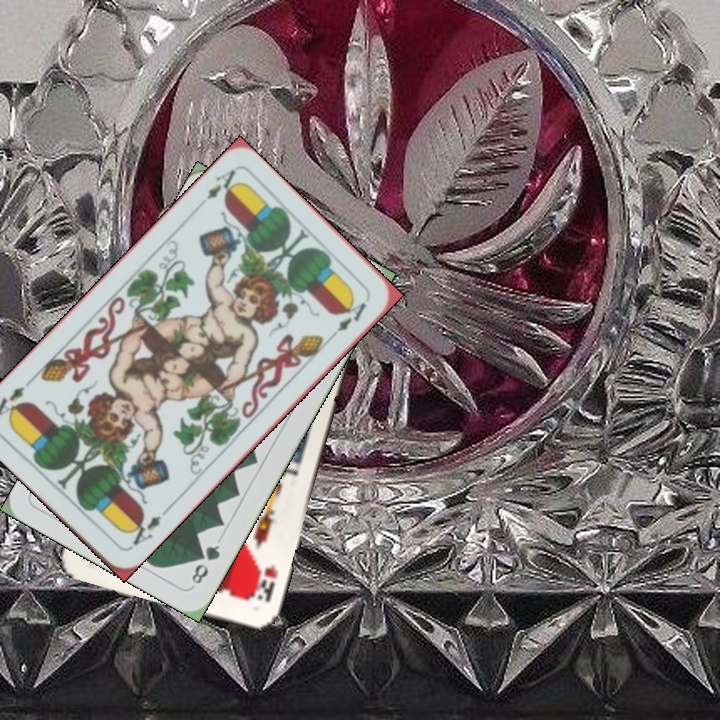EA: (192, 165, 241, 211), (123, 510, 164, 552)
G8: (187, 541, 223, 589)
HK: (249, 560, 280, 605)
